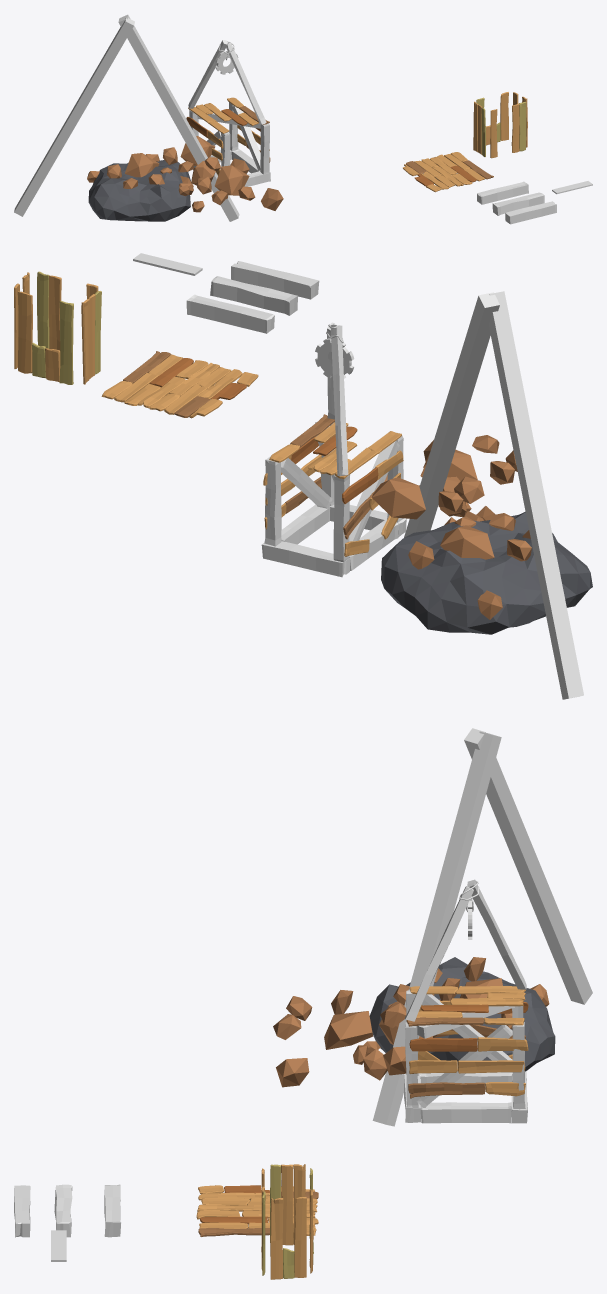
File: IronMine_v1.fbx
3 views of the same model, one above another, from view 1: azimuth 30°, elevation 25°; view 2: azimuth 150°, elevation 25°; view 3: azimuth 270°, elevation 25° (orthographic). The views are drawn at different scales.
Visible parts, largest first — view 1: Icosphere, Cube.058, Cube.064, Icosphere.008, Icosphere.007, Icosphere.006, Cube, Cube.002, Icosphere.001, Cube.001, Cube.057, Cube.050 (+7 smaller); view 2: Icosphere, Cube.058, Cube.064, Icosphere.006, Icosphere.007, Cube.001, Icosphere.008, Cube.002, Cube, Cube.005, Cube.050, Cube.011 (+13 smaller); view 3: Cube.064, Cube.058, Icosphere, Icosphere.008, Cube.003, Icosphere.006, Cube.057, Cube.050, Icosphere.001, Cube.052, Icosphere.007, Cube.054 (+12 smaller).
Part boxes in pixels (x1=…): Icosphere: x1=88, y1=160, x2=190, y2=221; Cube.058: x1=14, y1=17, x2=134, y2=216; Cube.064: x1=118, y1=14, x2=239, y2=221; Icosphere.008: x1=179, y1=165, x2=283, y2=210; Icosphere.007: x1=87, y1=153, x2=193, y2=188; Icosphere.006: x1=146, y1=136, x2=249, y2=173; Cube: x1=505, y1=201, x2=556, y2=224; Cube.002: x1=477, y1=181, x2=528, y2=204; Icosphere.001: x1=160, y1=161, x2=224, y2=212; Cube.001: x1=492, y1=192, x2=544, y2=215; Cube.057: x1=226, y1=42, x2=266, y2=124; Cube.050: x1=188, y1=40, x2=227, y2=108; Icosphere: x1=381, y1=511, x2=592, y2=634; Cube.058: x1=489, y1=291, x2=583, y2=699; Cube.064: x1=404, y1=292, x2=499, y2=537; Icosphere.006: x1=371, y1=467, x2=484, y2=569; Icosphere.007: x1=440, y1=513, x2=531, y2=619; Cube.001: x1=210, y1=276, x2=297, y2=315; Icosphere.008: x1=423, y1=435, x2=517, y2=521; Cube.002: x1=186, y1=294, x2=274, y2=333; Cube: x1=231, y1=261, x2=319, y2=299; Cube.005: x1=261, y1=541, x2=349, y2=577; Cube.050: x1=330, y1=324, x2=348, y2=476; Cube.011: x1=264, y1=456, x2=281, y2=546; Cube.064: x1=372, y1=731, x2=501, y2=1126; Cube.058: x1=464, y1=728, x2=592, y2=1004; Icosphere: x1=369, y1=957, x2=555, y2=1071; Icosphere.008: x1=273, y1=990, x2=373, y2=1087; Cube.003: x1=420, y1=1102, x2=511, y2=1123; Icosphere.006: x1=380, y1=978, x2=512, y2=1075; Cube.057: x1=405, y1=886, x2=473, y2=1021; Cube.050: x1=467, y1=879, x2=526, y2=989; Icosphere.001: x1=353, y1=999, x2=440, y2=1080; Cube.052: x1=270, y1=1198, x2=283, y2=1279; Icosphere.007: x1=419, y1=957, x2=549, y2=1038; Cube.054: x1=294, y1=1197, x2=306, y2=1277.
Bounding box in the file's own units: 4169 × 1888 × 2985.
Materials: 6 (2 with a texture image).
